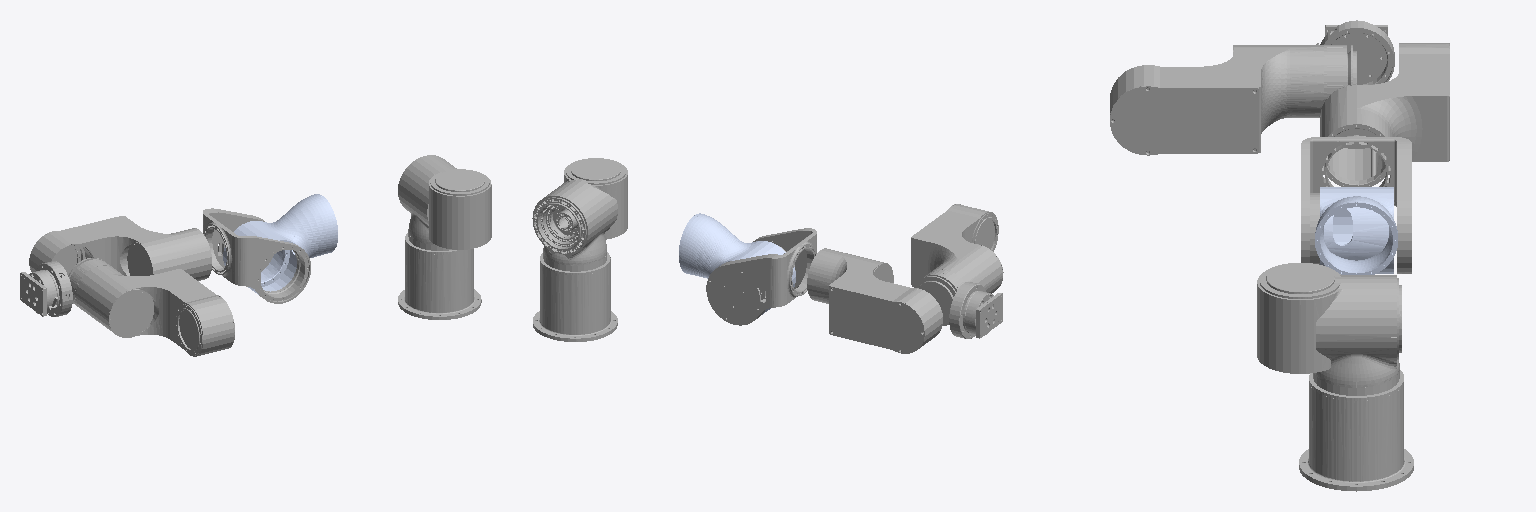
URDF robot description (w10new):
<?xml version="1.0" encoding="utf-8"?>
<!-- This URDF was automatically created by SolidWorks to URDF Exporter! Originally created by Stephen Brawner (brawner@gmail.com) 
     Commit Version: 1.6.0-4-g7f85cfe  Build Version: 1.6.7995.38578
     For more information, please see http://wiki.ros.org/sw_urdf_exporter -->
<robot
  name="w10new">
  <link
    name="base_link">
    <inertial>
      <origin
        xyz="-4.5208E-06 1.396E-06 0.091972"
        rpy="0 0 0" />
      <mass
        value="2.2909" />
      <inertia
        ixx="0.007292"
        ixy="-9.2658E-08"
        ixz="-1.0714E-07"
        iyy="0.007285"
        iyz="-4.5939E-07"
        izz="0.0085503" />
    </inertial>
    <visual>
      <origin
        xyz="0 0 0"
        rpy="0 0 0" />
      <geometry>
        <mesh
          filename="package://w10_sim/meshes/base_link.STL" />
      </geometry>
      <material
        name="">
        <color
          rgba="0.75294 0.75294 0.75294 1" />
      </material>
    </visual>
    <collision>
      <origin
        xyz="0 0 0"
        rpy="0 0 0" />
      <geometry>
        <mesh
          filename="package://w10_sim/meshes/base_link.STL" />
      </geometry>
    </collision>
  </link>
  <link
    name="Link1">
    <inertial>
      <origin
        xyz="-7.7498E-06 0.0074712 0.23729"
        rpy="0 0 0" />
      <mass
        value="1.7902" />
      <inertia
        ixx="0.0044326"
        ixy="-9.695E-07"
        ixz="-2.9741E-06"
        iyy="0.005783"
        iyz="6.3081E-05"
        izz="0.004111" />
    </inertial>
    <visual>
      <origin
        xyz="0 0 0"
        rpy="0 0 0" />
      <geometry>
        <mesh
          filename="package://w10_sim/meshes/Link1.STL" />
      </geometry>
      <material
        name="">
        <color
          rgba="0.75294 0.75294 0.75294 1" />
      </material>
    </visual>
    <collision>
      <origin
        xyz="0 0 0"
        rpy="0 0 0" />
      <geometry>
        <mesh
          filename="package://w10_sim/meshes/Link1.STL" />
      </geometry>
    </collision>
  </link>
  <joint
    name="Joint1"
    type="revolute">
    <origin
      xyz="0 0 0"
      rpy="0 0 0" />
    <parent
      link="base_link" />
    <child
      link="Link1" />
    <axis
      xyz="0 0 1" />
    <limit
      lower="-3.14159"
      upper="3.14159"
      effort="150"
      velocity="1.57" />
  </joint>
  <link
    name="Link2">
    <inertial>
      <origin
        xyz="0.00037178 0.16001 -4.5604E-05"
        rpy="0 0 0" />
      <mass
        value="3.6686" />
      <inertia
        ixx="0.0194"
        ixy="6.6606E-05"
        ixz="-7.1662E-05"
        iyy="0.01431"
        iyz="0.00050157"
        izz="0.016052" />
    </inertial>
    <visual>
      <origin
        xyz="0 0 0"
        rpy="0 0 0" />
      <geometry>
        <mesh
          filename="package://w10_sim/meshes/Link2.STL" />
      </geometry>
      <material
        name="">
        <color
          rgba="0.75294 0.75294 0.75294 1" />
      </material>
    </visual>
    <collision>
      <origin
        xyz="0 0 0"
        rpy="0 0 0" />
      <geometry>
        <mesh
          filename="package://w10_sim/meshes/Link2.STL" />
      </geometry>
    </collision>
  </link>
  <joint
    name="Joint2"
    type="revolute">
    <origin
      xyz="0 0 0.248"
      rpy="1.5708 -1.5708 0" />
    <parent
      link="Link1" />
    <child
      link="Link2" />
    <axis
      xyz="0 0 -1" />
    <limit
      lower="-3.14159"
      upper="3.14159"
      effort="150"
      velocity="1.57" />
  </joint>
  <link
    name="Link3">
    <inertial>
      <origin
        xyz="0.0317650732299706 -8.75058174038268E-05 -0.0401197895533406"
        rpy="0 0 0" />
      <mass
        value="1.08340806836632" />
      <inertia
        ixx="0.0055354350246501"
        ixy="-1.24970567336768E-05"
        ixz="-0.0012018205685461"
        iyy="0.00676653220988555"
        iyz="-1.1936128068962E-05"
        izz="0.00377122222019624" />
    </inertial>
    <visual>
      <origin
        xyz="0 0 0"
        rpy="0 0 0" />
      <geometry>
        <mesh
          filename="package://w10_sim/meshes/Link3.STL" />
      </geometry>
      <material
        name="">
        <color
          rgba="0.866666666666667 0.909803921568627 1 1" />
      </material>
    </visual>
    <collision>
      <origin
        xyz="0 0 0"
        rpy="0 0 0" />
      <geometry>
        <mesh
          filename="package://w10_sim/meshes/Link3.STL" />
      </geometry>
    </collision>
  </link>
  <joint
    name="Joint3"
    type="revolute">
    <origin
      xyz="0 0.425 0"
      rpy="1.5708 0 -3.1416" />
    <parent
      link="Link2" />
    <child
      link="Link3" />
    <axis
      xyz="0 0 1" />
    <limit
      lower="-3.14159"
      upper="3.14159"
      effort="150"
      velocity="1.57" />
  </joint>
  <link
    name="Link4">
    <inertial>
      <origin
        xyz="0.0160855337130036 0.0244220238192113 -0.0140914135214584"
        rpy="0 0 0" />
      <mass
        value="2.95948805637316" />
      <inertia
        ixx="0.00986102443186048"
        ixy="-0.000785511294194122"
        ixz="-5.30757510475327E-05"
        iyy="0.00939426486393401"
        iyz="-0.000322215108284144"
        izz="0.00792432385260811" />
    </inertial>
    <visual>
      <origin
        xyz="0 0 0"
        rpy="0 0 0" />
      <geometry>
        <mesh
          filename="package://w10_sim/meshes/Link4.STL" />
      </geometry>
      <material
        name="">
        <color
          rgba="0.752941176470588 0.752941176470588 0.752941176470588 1" />
      </material>
    </visual>
    <collision>
      <origin
        xyz="0 0 0"
        rpy="0 0 0" />
      <geometry>
        <mesh
          filename="package://w10_sim/meshes/Link4.STL" />
      </geometry>
    </collision>
  </link>
  <joint
    name="Joint4"
    type="revolute">
    <origin
      xyz="0.05 0 0"
      rpy="1.5708 0 3.1416" />
    <parent
      link="Link3" />
    <child
      link="Link4" />
    <axis
      xyz="0 0 -1" />
    <limit
      lower="-3.14159"
      upper="3.14159"
      effort="150"
      velocity="1.57" />
  </joint>
  <link
    name="Link5">
    <inertial>
      <origin
        xyz="6.72056388206776E-06 -0.0367557919639413 -0.181485998918127"
        rpy="0 0 0" />
      <mass
        value="2.83332837536096" />
      <inertia
        ixx="0.0154967151939413"
        ixy="2.47801432245023E-07"
        ixz="-8.02945241132858E-08"
        iyy="0.0143840168739248"
        iyz="0.00397451877041743"
        izz="0.00790844728912351" />
    </inertial>
    <visual>
      <origin
        xyz="0 0 0"
        rpy="0 0 0" />
      <geometry>
        <mesh
          filename="package://w10_sim/meshes/Link5.STL" />
      </geometry>
      <material
        name="">
        <color
          rgba="0.752941176470588 0.752941176470588 0.752941176470588 1" />
      </material>
    </visual>
    <collision>
      <origin
        xyz="0 0 0"
        rpy="0 0 0" />
      <geometry>
        <mesh
          filename="package://w10_sim/meshes/Link5.STL" />
      </geometry>
    </collision>
  </link>
  <joint
    name="Joint5"
    type="revolute">
    <origin
      xyz="0.05 0.4267 0"
      rpy="1.5708 0 3.1416" />
    <parent
      link="Link4" />
    <child
      link="Link5" />
    <axis
      xyz="0 0 1" />
    <limit
      lower="-3.14159"
      upper="3.14159"
      effort="150"
      velocity="1.57" />
  </joint>
  <link
    name="Link6">
    <inertial>
      <origin
        xyz="-7.4172E-05 -0.0056448 -0.035346"
        rpy="0 0 0" />
      <mass
        value="2.9816" />
      <inertia
        ixx="0.0033715"
        ixy="-2.0791E-07"
        ixz="-6.4744E-08"
        iyy="0.0045824"
        iyz="1.1174E-05"
        izz="0.0039673" />
    </inertial>
    <visual>
      <origin
        xyz="0 0 0"
        rpy="0 0 0" />
      <geometry>
        <mesh
          filename="package://w10_sim/meshes/Link6.STL" />
      </geometry>
      <material
        name="">
        <color
          rgba="0.75294 0.75294 0.75294 1" />
      </material>
    </visual>
    <collision>
      <origin
        xyz="0 0 0"
        rpy="0 0 0" />
      <geometry>
        <mesh
          filename="package://w10_sim/meshes/Link6.STL" />
      </geometry>
    </collision>
  </link>
  <joint
    name="Joint6"
    type="revolute">
    <origin
      xyz="0 0 0"
      rpy="1.5708 0 -3.1416" />
    <parent
      link="Link5" />
    <child
      link="Link6" />
    <axis
      xyz="0 0 -1" />
    <limit
      lower="-3.14159"
      upper="3.14159"
      effort="150"
      velocity="1.57" />
  </joint>
  <link
    name="Link7">
    <inertial>
      <origin
        xyz="0.00037847 0.00049256 -0.026974"
        rpy="0 0 0" />
      <mass
        value="1.298" />
      <inertia
        ixx="0.00095899"
        ixy="-3.4434E-06"
        ixz="6.3871E-07"
        iyy="0.0009081"
        iyz="-1.5055E-06"
        izz="0.0017806" />
    </inertial>
    <visual>
      <origin
        xyz="0 0 0"
        rpy="0 0 0" />
      <geometry>
        <mesh
          filename="package://w10_sim/meshes/Link7.STL" />
      </geometry>
      <material
        name="">
        <color
          rgba="0.75294 0.75294 0.75294 1" />
      </material>
    </visual>
    <collision>
      <origin
        xyz="0 0 0"
        rpy="0 0 0" />
      <geometry>
        <mesh
          filename="package://w10_sim/meshes/Link7.STL" />
      </geometry>
    </collision>
  </link>
  <joint
    name="Joint7"
    type="revolute">
    <origin
      xyz="0 0.1334 0"
      rpy="1.5708 0 3.1416" />
    <parent
      link="Link6" />
    <child
      link="Link7" />
    <axis
      xyz="0 0 1" />
    <limit
      lower="-3.14159"
      upper="3.14159"
      effort="150"
      velocity="1.57" />
  </joint>
</robot>

--- Facts derived from the render (not from the file) ---
Views: 3 orthographic renders of the robot side by side, from view 1: azimuth 30°, elevation 25°; view 2: azimuth 150°, elevation 25°; view 3: azimuth 270°, elevation 25°.
Model w10new with 8 links and 7 joints (7 revolute), rooted at base_link, posed all joints at 0.
Visible links, largest first — view 1: Link6, Link5, base_link, Link4, Link2, Link3, Link1, Link7; view 2: Link5, Link6, Link4, base_link, Link1, Link3, Link7, Link2; view 3: Link6, Link5, base_link, Link1, Link2, Link3, Link4, Link7.
Boxes of the visible links, <box> form: Link6: <box>68,258,234,356</box>; Link5: <box>29,216,211,280</box>; base_link: <box>398,233,481,319</box>; Link4: <box>203,208,310,303</box>; Link2: <box>429,169,491,249</box>; Link3: <box>223,194,337,294</box>; Link1: <box>398,155,456,244</box>; Link7: <box>20,261,72,316</box>; Link5: <box>807,248,942,353</box>; Link6: <box>911,204,1003,325</box>; Link4: <box>706,228,816,325</box>; base_link: <box>533,252,617,341</box>; Link1: <box>532,179,617,265</box>; Link3: <box>679,213,795,314</box>; Link7: <box>949,282,1002,338</box>; Link2: <box>564,158,627,239</box>; Link6: <box>1110,45,1356,155</box>; Link5: <box>1320,43,1449,186</box>; base_link: <box>1299,370,1413,491</box>; Link1: <box>1314,275,1401,387</box>; Link2: <box>1257,263,1342,373</box>; Link3: <box>1315,187,1397,274</box>; Link4: <box>1301,135,1411,273</box>; Link7: <box>1316,20,1394,84</box>.
Size in the robot's own frame: 1.07 by 0.5162 by 0.317 metres.
8 mesh visuals loaded from 8 distinct referenced files (8 binary STL).
